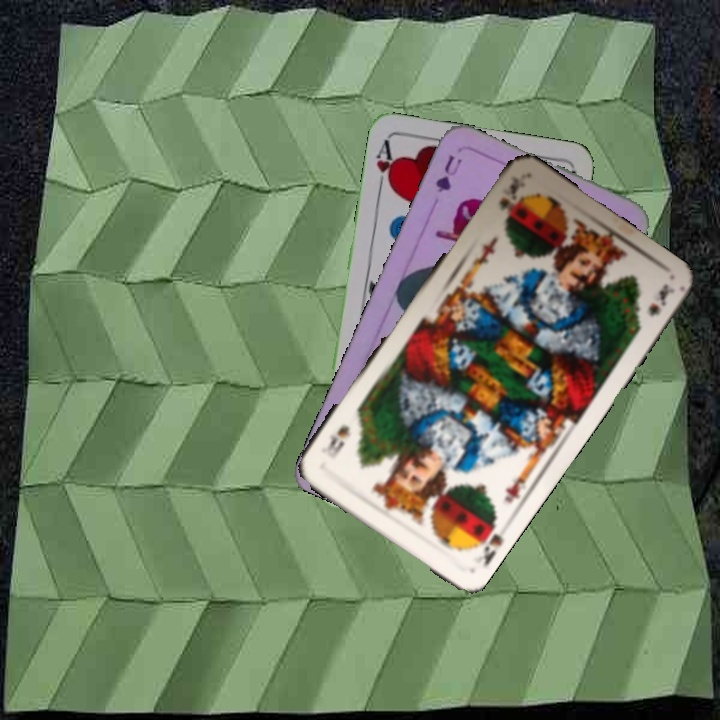GU: (431, 150, 465, 195)
HA: (372, 136, 398, 195)
SK: (474, 514, 506, 570), (495, 171, 528, 215)
